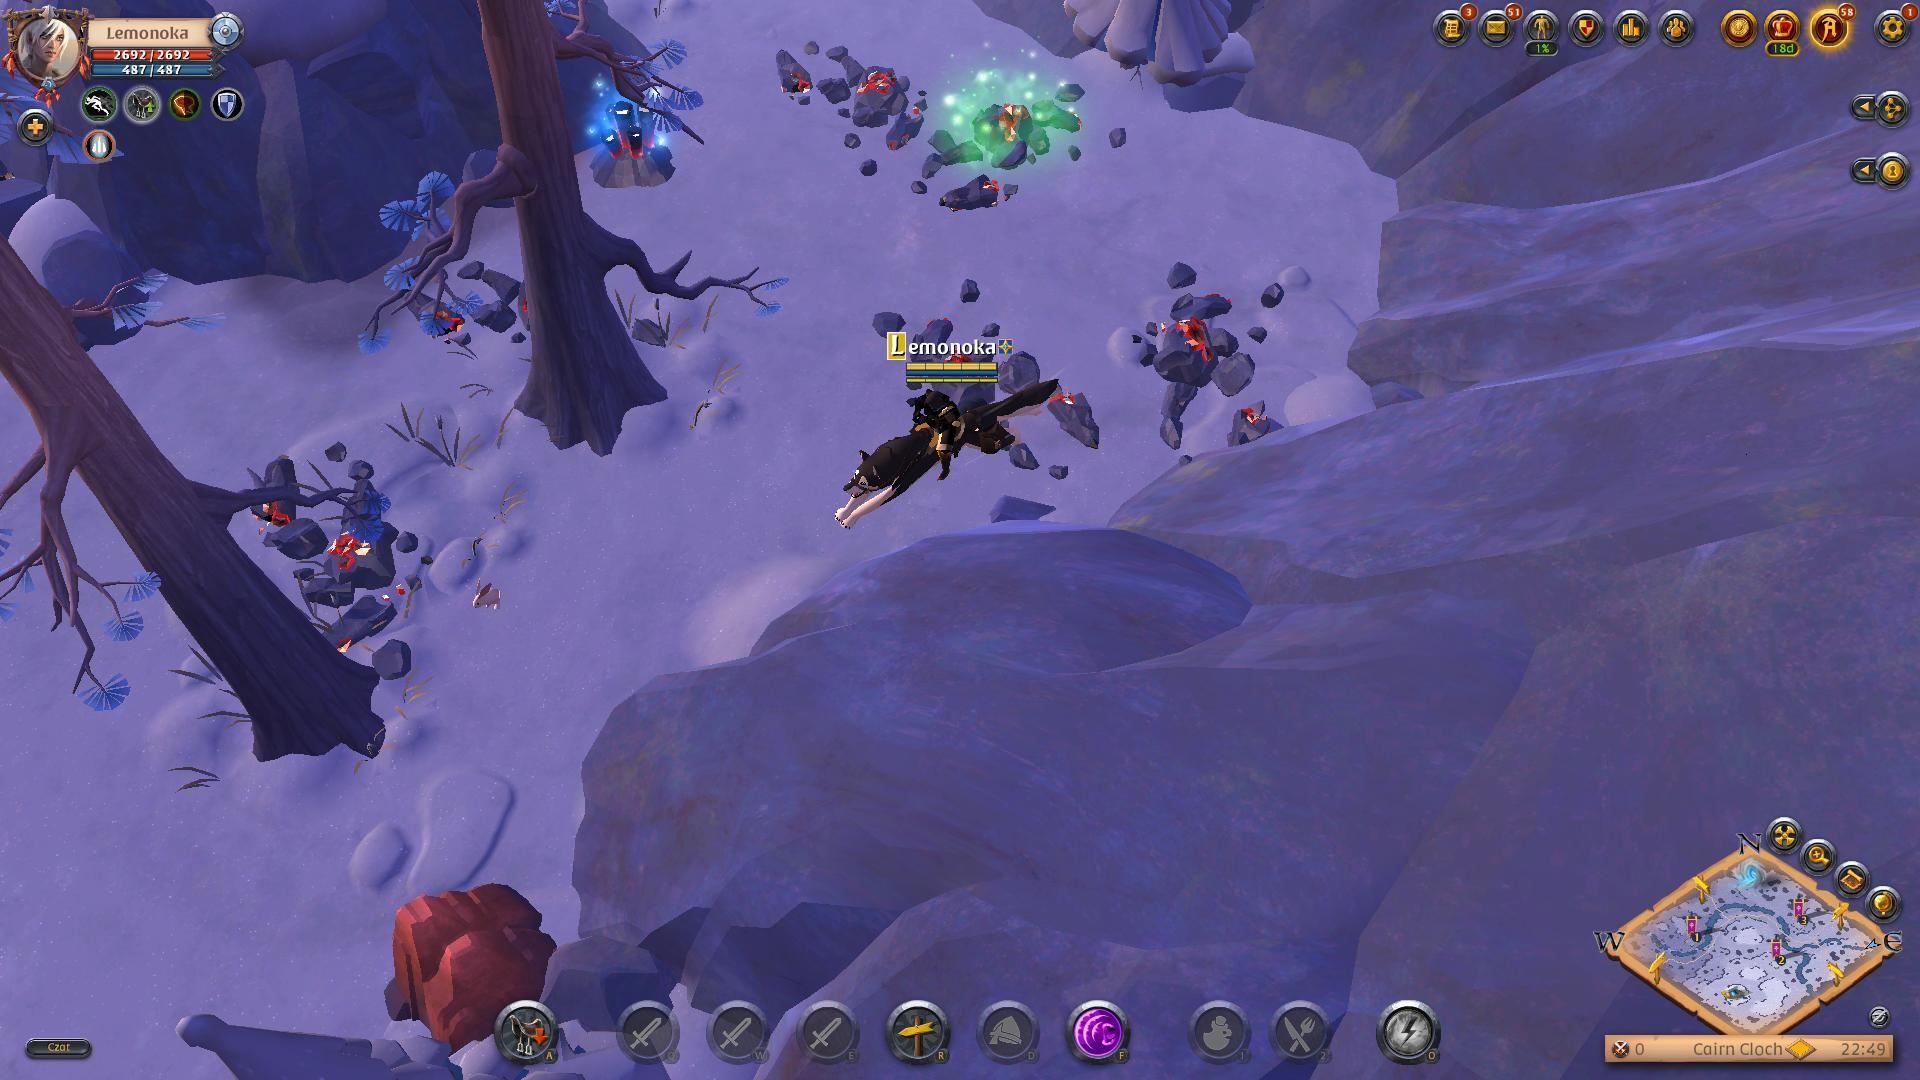ore tier 5: (595, 99, 671, 194)
